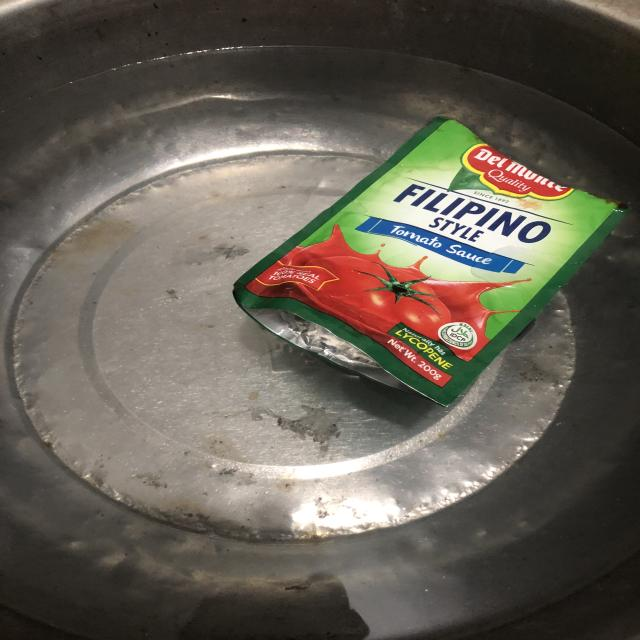Plastic Pouch: (207, 90, 640, 432)
